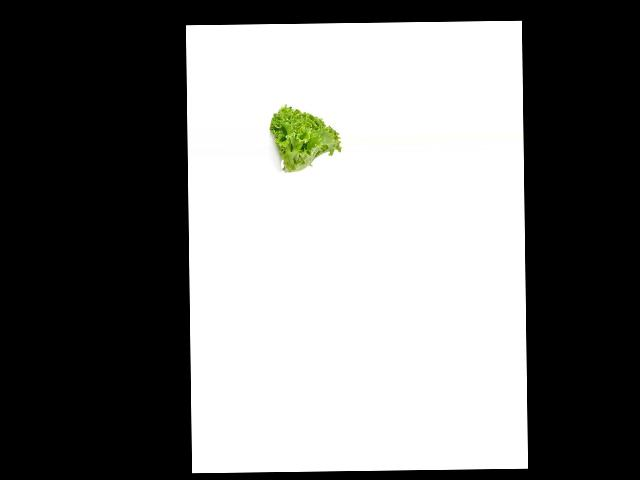lettuce: (269, 100, 344, 177)
